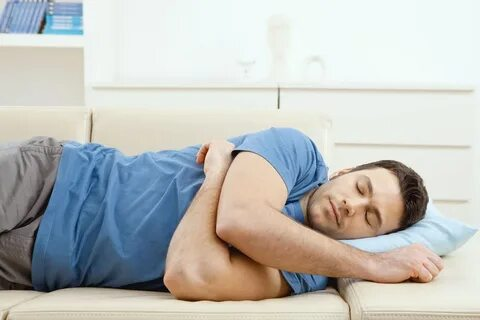sleep: (1, 125, 443, 301)
